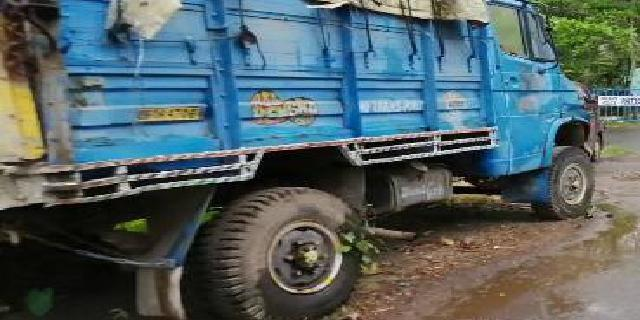Truck: (4, 3, 607, 308)
